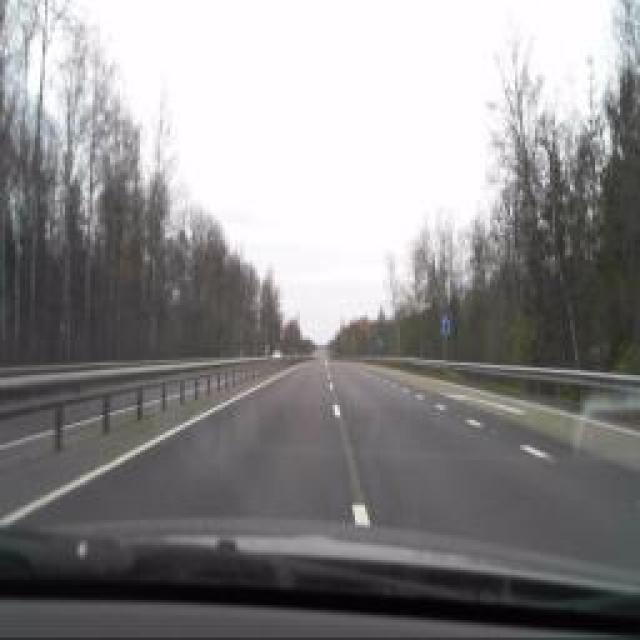sign: (440, 314, 452, 336), (373, 334, 385, 348)
